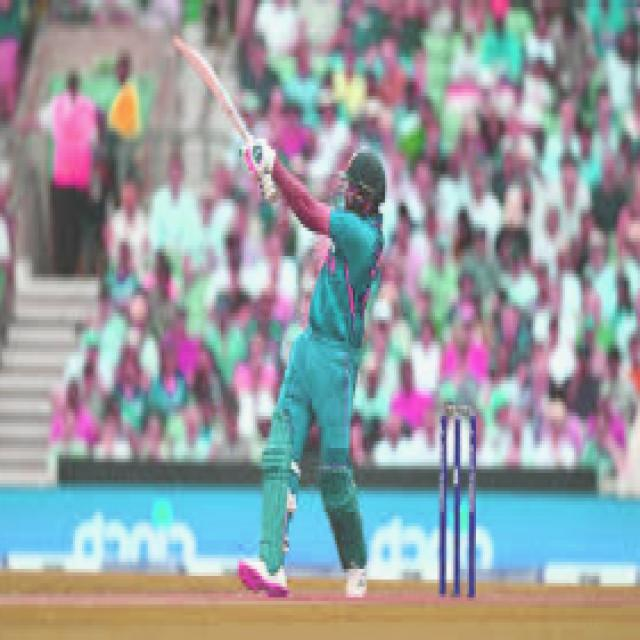toe: (169, 33, 188, 54)
